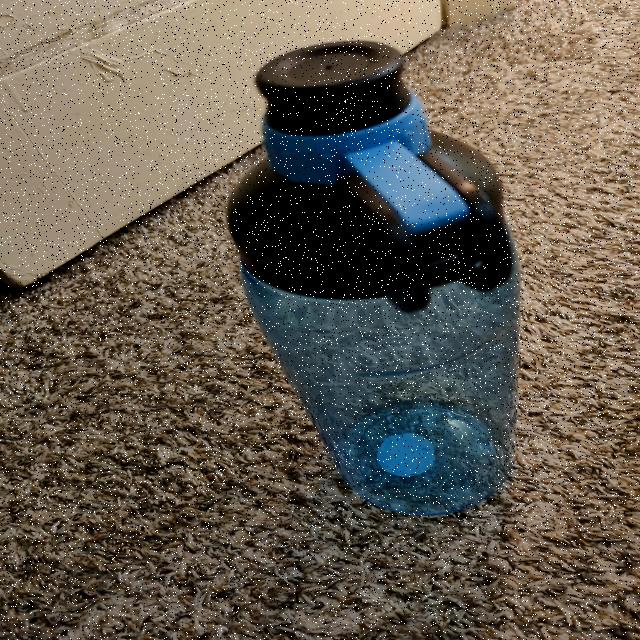bottle: (308, 36, 503, 502)
